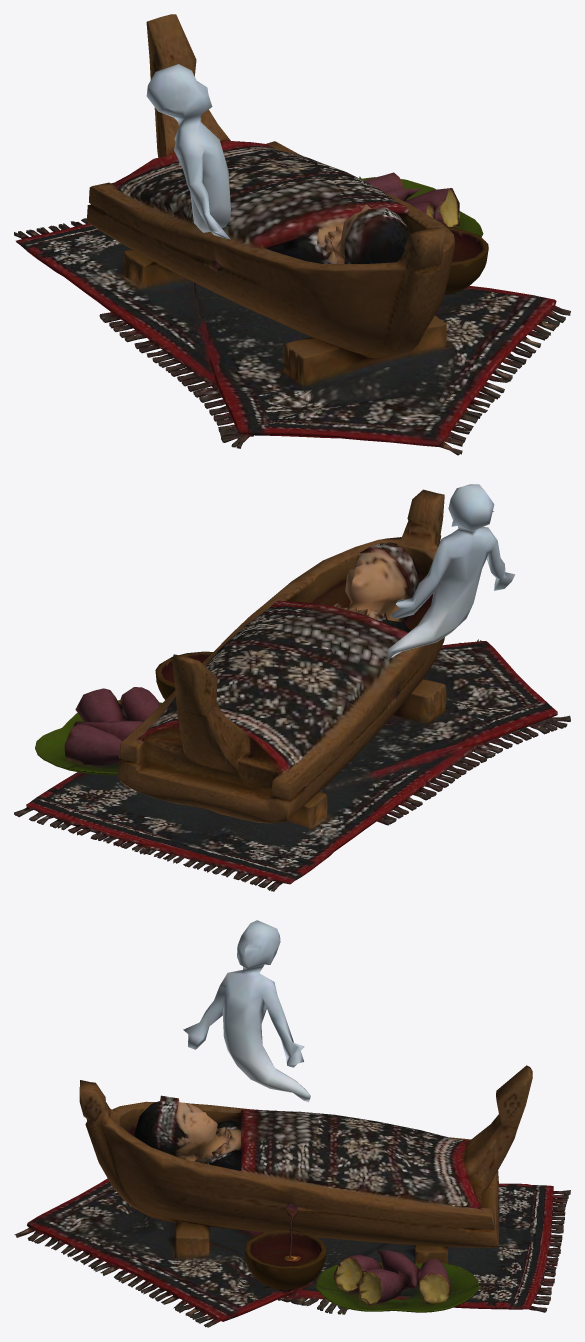
The model's file is T'boli-512(10k).glb.
The picture shows the model from 3 angles, top to bottom: view 1: azimuth 30°, elevation 25°; view 2: azimuth 150°, elevation 25°; view 3: azimuth 270°, elevation 25°; orthographic projection. The views are drawn at different scales.
Parts seen in each view (by area): view 1: tripo_node_9d6f33ad-9ee0-4cd2-9da4-ddafc3233468; view 2: tripo_node_9d6f33ad-9ee0-4cd2-9da4-ddafc3233468; view 3: tripo_node_9d6f33ad-9ee0-4cd2-9da4-ddafc3233468.
Part boxes in pixels (x1,y1,x2,y2): tripo_node_9d6f33ad-9ee0-4cd2-9da4-ddafc3233468: (14, 14, 570, 455); tripo_node_9d6f33ad-9ee0-4cd2-9da4-ddafc3233468: (14, 484, 570, 891); tripo_node_9d6f33ad-9ee0-4cd2-9da4-ddafc3233468: (14, 920, 570, 1327).
Size of the model in its own units: 0.6653 by 0.5013 by 0.98.
Materials: 1 (1 with a texture image).
